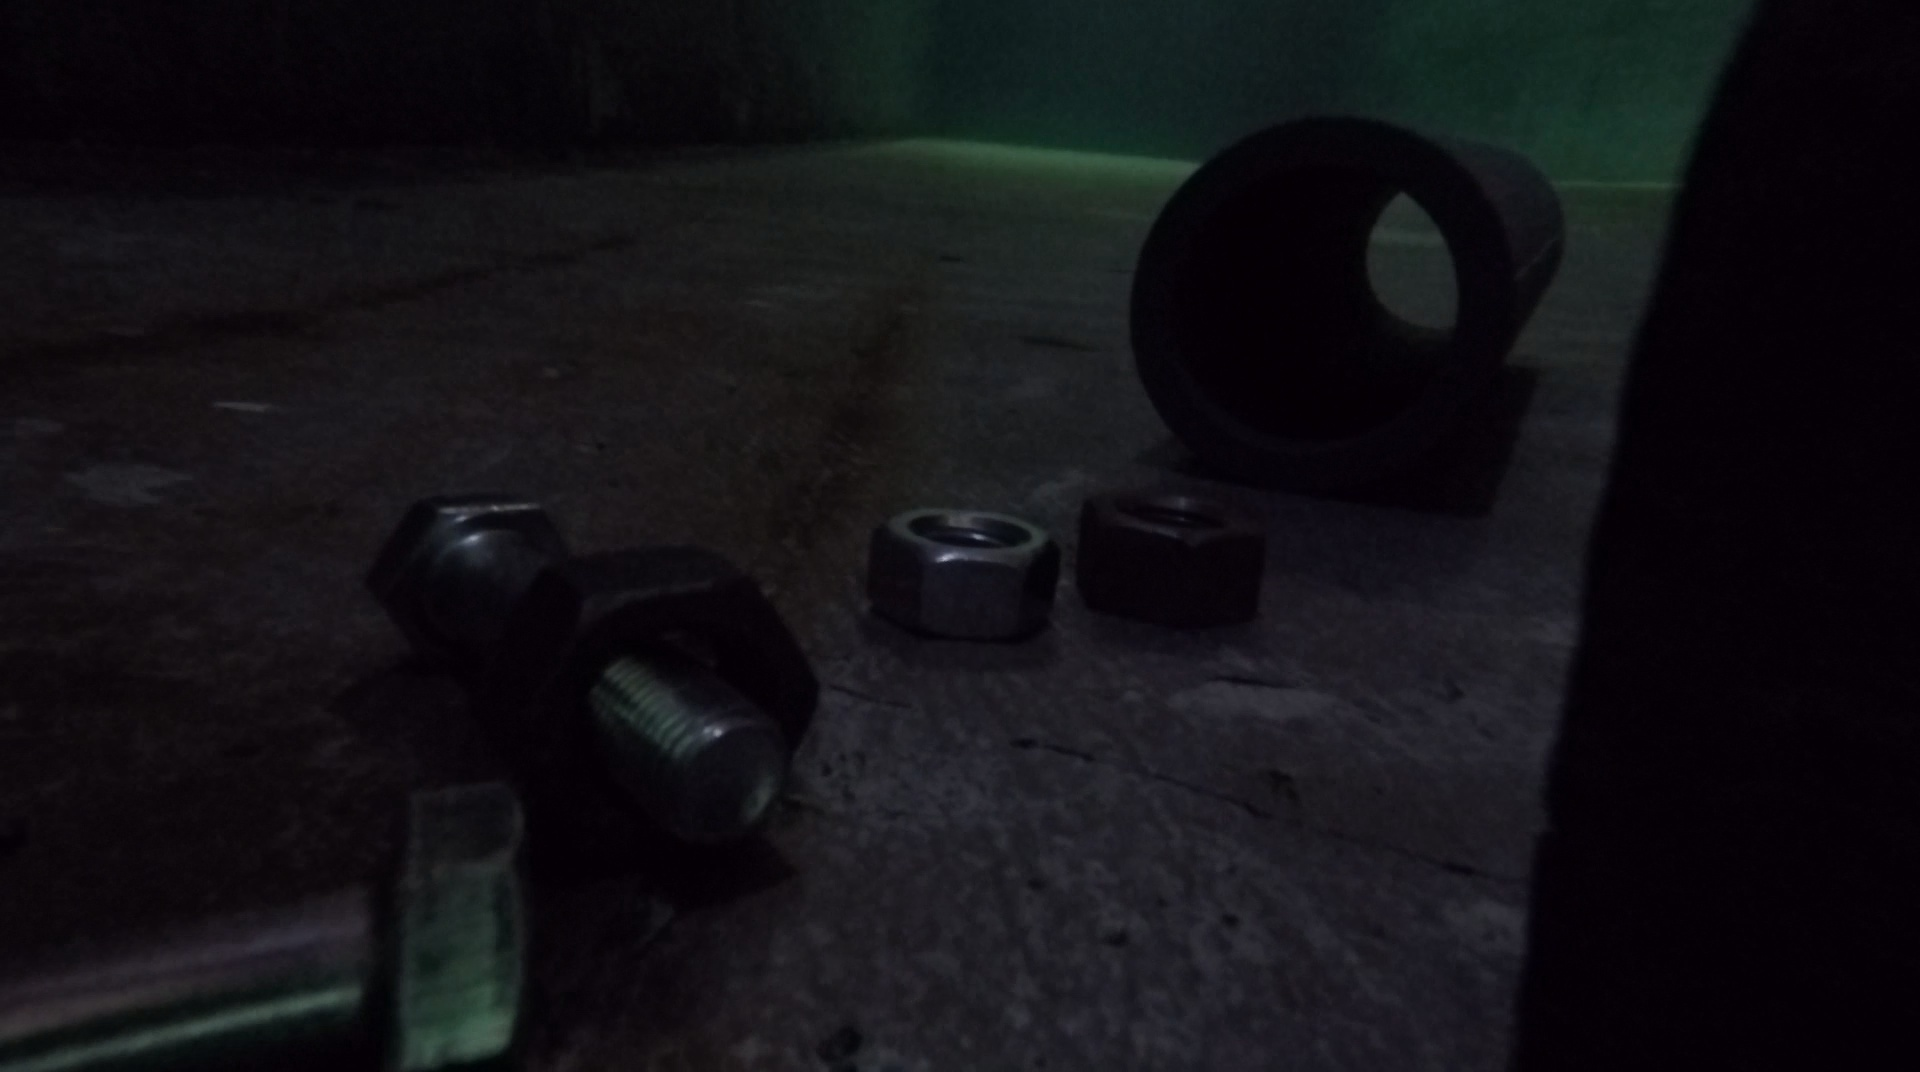bolt: (363, 483, 822, 849), (1, 770, 539, 1069)
nut: (501, 539, 824, 843), (1077, 483, 1271, 628), (868, 502, 1068, 640)
pipe: (1130, 111, 1571, 487)
